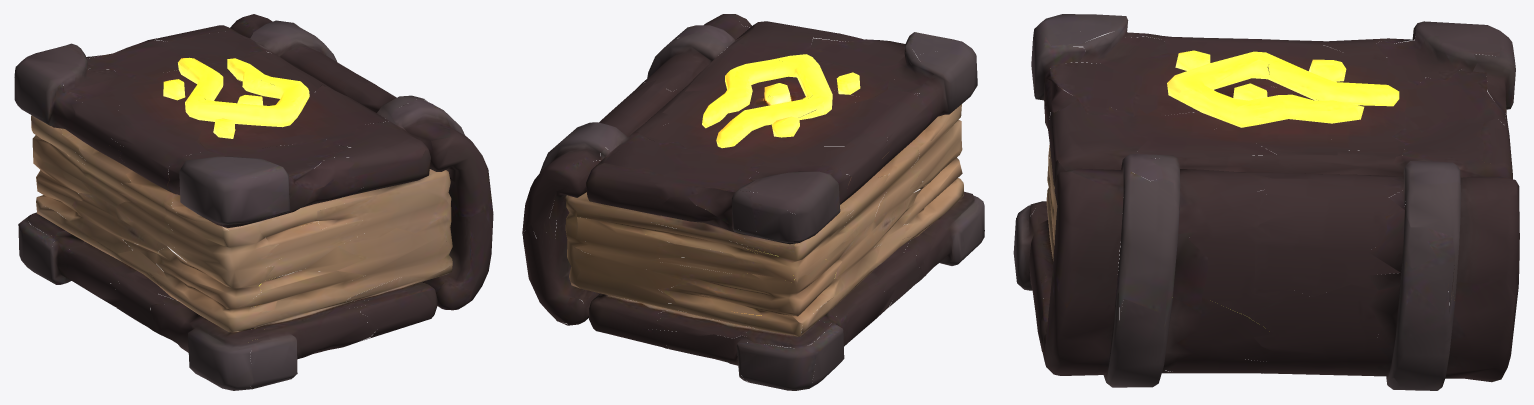
The model's file is Arm_grimoire-B-rU2hMp.glb.
3 renders of one model, left to right at view 1: azimuth 30°, elevation 25°; view 2: azimuth 150°, elevation 25°; view 3: azimuth 270°, elevation 25°, orthographic. The views are drawn at different scales.
Parts seen in each view (by area): view 1: Arm_grimoire; view 2: Arm_grimoire; view 3: Arm_grimoire.
Part boxes in pixels (left/top/right/bottom): Arm_grimoire: left=14, top=14, right=493, bottom=390; Arm_grimoire: left=522, top=14, right=984, bottom=390; Arm_grimoire: left=1013, top=14, right=1519, bottom=390.
Bounding box in the file's own units: 0.4962 × 0.34 × 0.6004.
Materials: 1 (1 with a texture image).
